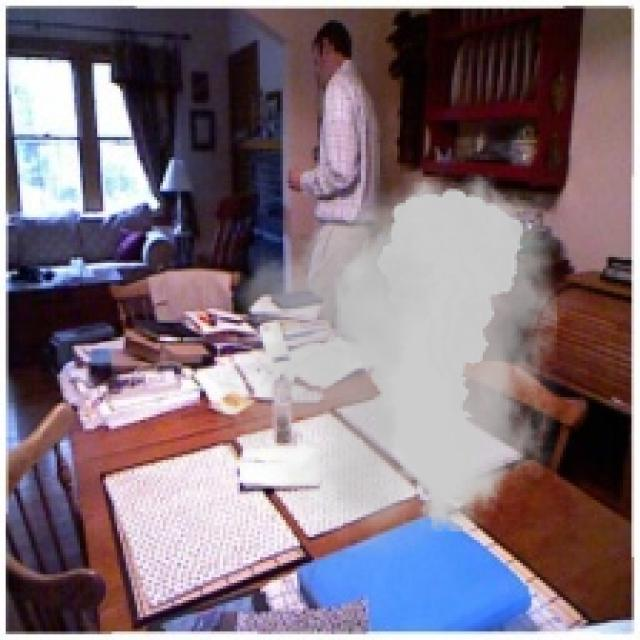smoke: (194, 163, 589, 557)
